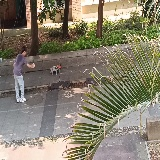fire: (57, 64, 61, 69)
